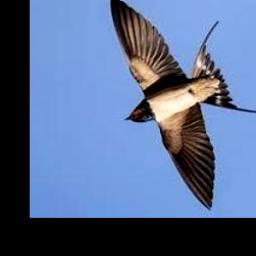Swallow: (110, 0, 256, 211)
